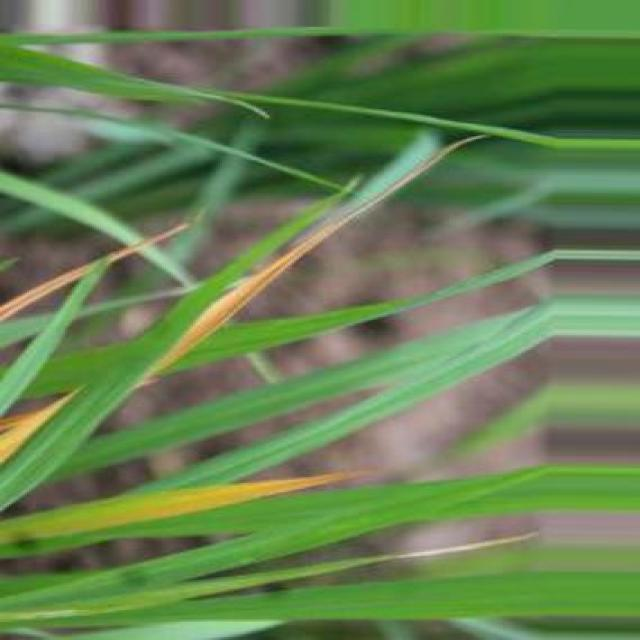Rice Tungro: (146, 136, 480, 382), (0, 474, 349, 543), (0, 391, 76, 463), (4, 262, 96, 321), (101, 224, 188, 263)
